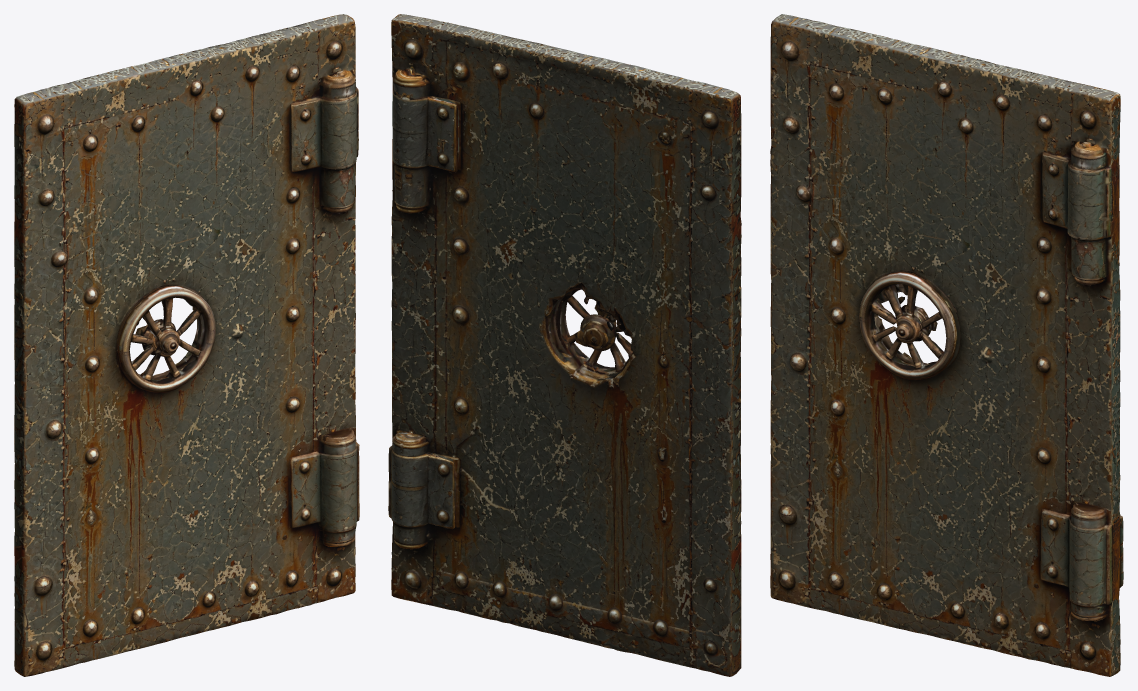
The model's file is BKI_DoorLeaf.fbx.
3 renders of one model, left to right at view 1: azimuth 30°, elevation 25°; view 2: azimuth 150°, elevation 25°; view 3: azimuth 330°, elevation 25°, orthographic.
Visible parts, largest first — view 1: texture_mapping; view 2: texture_mapping; view 3: texture_mapping.
Boxes of the visible parts, x1,y1,x2,y2 form: texture_mapping: (14, 14, 359, 676); texture_mapping: (388, 14, 741, 676); texture_mapping: (770, 14, 1123, 676).
Size of the model in its own units: 0.6137 by 0.102 by 1.
1 material, 1 textured.
